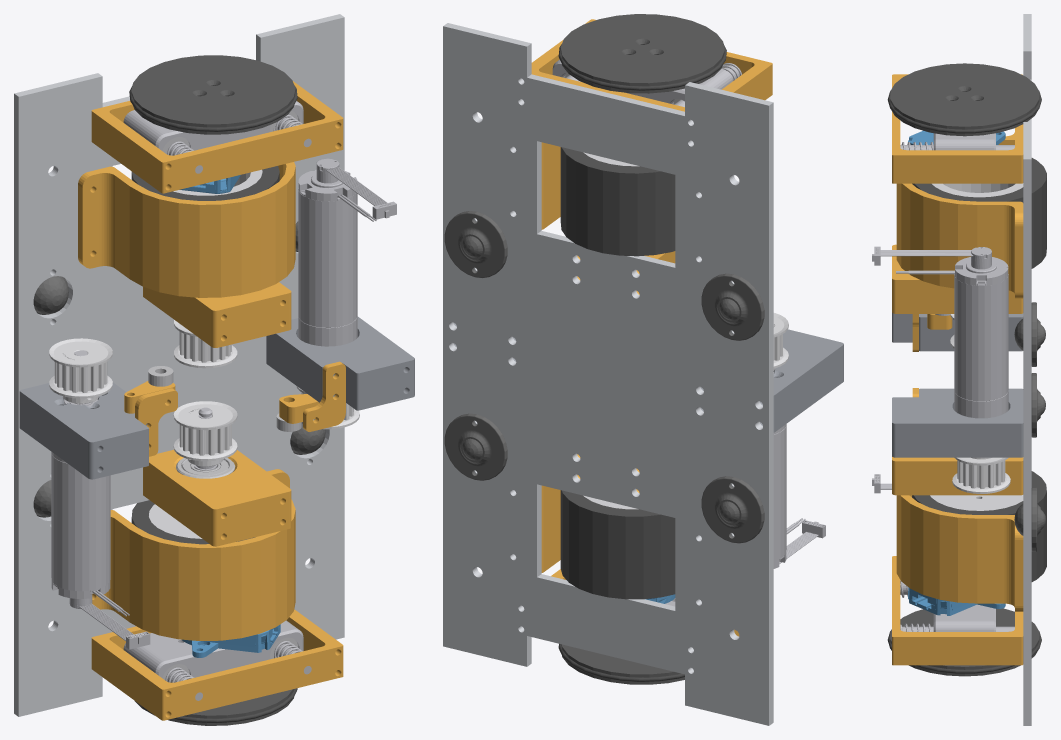
Rendered from pogon2027.glb.
3 renders of one model, left to right at view 1: azimuth 30°, elevation 25°; view 2: azimuth 150°, elevation 25°; view 3: azimuth 270°, elevation 25°, orthographic. The views are drawn at different scales.
Parts seen in each view (by area): view 1: donja_ploca_horizontalni:1, blatobran:1, blatobran:2, odom_ram:1, odom_ram:1_1, odom_tocak:1_1, blok_pogona_horizontalni:1, nosac_motora_horizontalni:1_1, nosac_motora_horizontalni:1, 0 (6):1_1, 0 (6):1, blok_pogona_horizontalni:1_1 (+20 smaller); view 2: donja_ploca_horizontalni:1, tanja guma:1, tanja guma:1_1, odom_tocak:1_1, nosac_motora_horizontalni:1_1, omnitocak:1, omnitocak:4, omnitocak:3, omnitocak:2, odom_ram:1_1, odom_tocak:1, blatobran:1 (+6 smaller); view 3: blatobran:2, blatobran:1, odom_tocak:1_1, nosac_motora_horizontalni:1, donja_ploca_horizontalni:1, 0 (6):1, odom_ram:1, odom_ram:1_1, blok_pogona_horizontalni:1, blok_pogona_horizontalni:1_1, tanja guma:1_1, nosac_motora_horizontalni:1_1 (+20 smaller).
Part boxes in pixels (<box>): donja_ploca_horizontalni:1: <box>14,14,344,716</box>; blatobran:1: <box>78,162,295,297</box>; blatobran:2: <box>92,469,295,640</box>; odom_ram:1: <box>91,609,343,720</box>; odom_ram:1_1: <box>91,81,343,193</box>; odom_tocak:1_1: <box>131,55,295,134</box>; blok_pogona_horizontalni:1: <box>143,449,291,546</box>; nosac_motora_horizontalni:1_1: <box>19,382,148,479</box>; nosac_motora_horizontalni:1: <box>266,316,414,410</box>; 0 (6):1_1: <box>51,470,110,591</box>; 0 (6):1: <box>298,188,357,309</box>; blok_pogona_horizontalni:1_1: <box>143,282,291,347</box>; donja_ploca_horizontalni:1: <box>443,23,773,725</box>; tanja guma:1: <box>560,490,675,599</box>; tanja guma:1_1: <box>560,147,675,256</box>; odom_tocak:1_1: <box>560,14,724,93</box>; nosac_motora_horizontalni:1_1: <box>700,329,843,432</box>; omnitocak:1: <box>701,273,764,340</box>; omnitocak:4: <box>444,413,507,480</box>; omnitocak:3: <box>444,211,507,278</box>; omnitocak:2: <box>701,476,764,543</box>; odom_ram:1_1: <box>531,19,772,111</box>; odom_tocak:1: <box>561,644,684,684</box>; blatobran:1: <box>541,142,560,229</box>; blatobran:2: <box>896,495,1023,611</box>; blatobran:1: <box>896,132,1023,298</box>; odom_tocak:1_1: <box>890,63,1039,136</box>; nosac_motora_horizontalni:1: <box>892,388,1023,457</box>; donja_ploca_horizontalni:1: <box>1023,14,1031,725</box>; 0 (6):1: <box>954,274,1008,384</box>; odom_ram:1: <box>892,556,1023,665</box>; odom_ram:1_1: <box>892,74,1023,183</box>; blok_pogona_horizontalni:1: <box>892,457,1023,495</box>; blok_pogona_horizontalni:1_1: <box>892,244,1023,313</box>; tanja guma:1_1: <box>912,158,1046,268</box>; nosac_motora_horizontalni:1_1: <box>892,313,1023,351</box>.
Bounding box in the file's own units: 0.165 × 0.3 × 0.0839.
